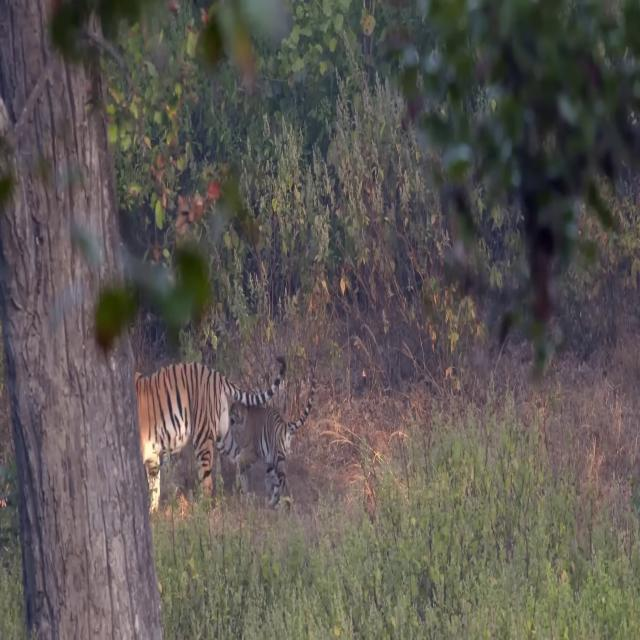tiger: (137, 333, 287, 512), (227, 357, 329, 507)
